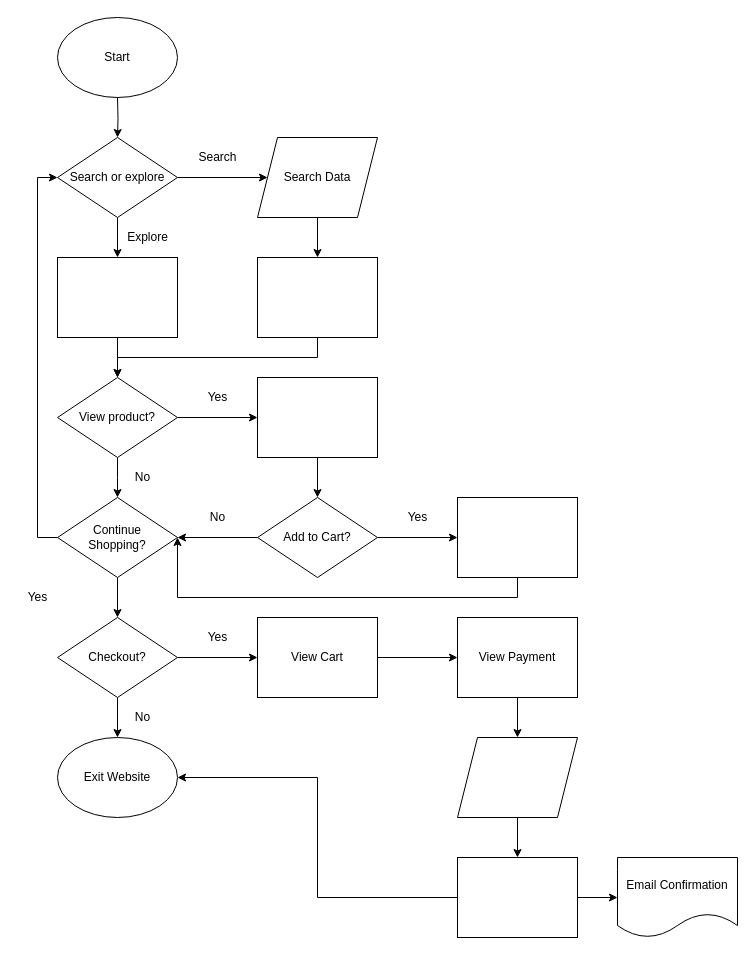
Image size: 755x955. Some labels were removed from this diagram. The box of each missing label's shape, as (x1, y1, x2, y2) in pixels:
Confirmation Screen: (456, 856, 578, 938)
Home Page: (56, 256, 178, 338)
Item Added to Cart: (456, 496, 578, 578)
Payment Information: (456, 736, 578, 818)
Product Webpage: (256, 376, 378, 458)
Search Results: (256, 256, 378, 338)
